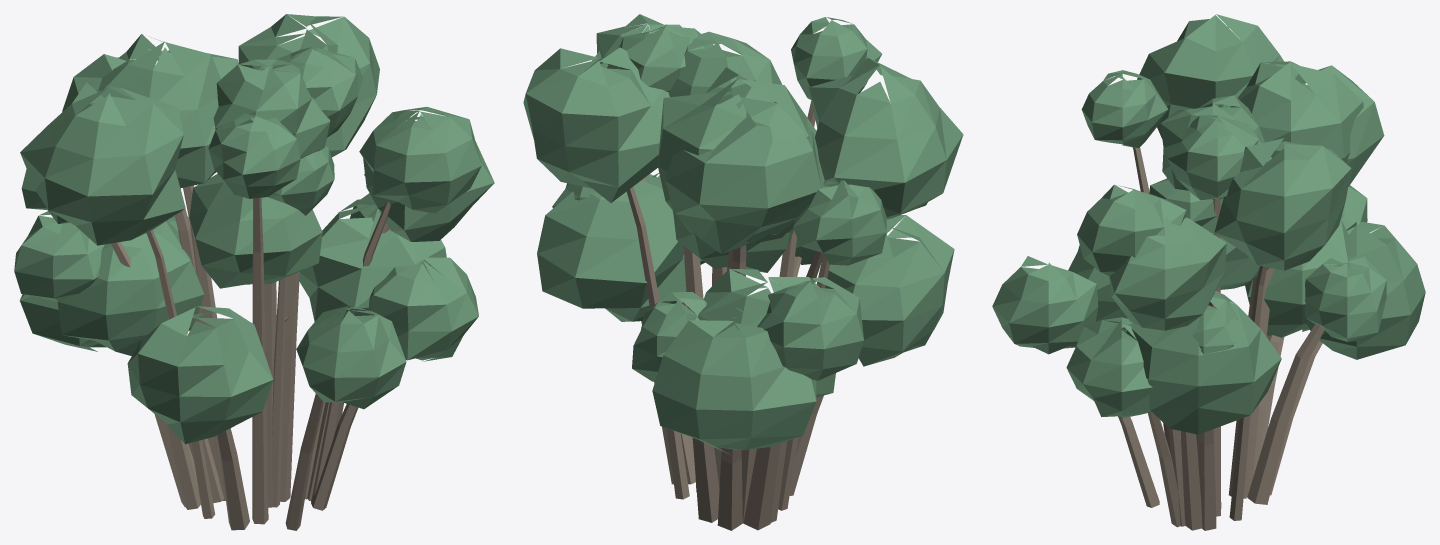
The model's file is temperate-forest-ecology-hawthorn-scrub-4ad407ec__3833.glb.
3 renders of one model, left to right at view 1: azimuth 30°, elevation 25°; view 2: azimuth 150°, elevation 25°; view 3: azimuth 270°, elevation 25°, orthographic. The views are drawn at different scales.
Visible parts, largest first — view 1: hawthorn-scrub; view 2: hawthorn-scrub; view 3: hawthorn-scrub.
Part boxes in pixels (box(x1,y1,x2,y2)): hawthorn-scrub: box(14, 14, 494, 530); hawthorn-scrub: box(523, 14, 963, 530); hawthorn-scrub: box(992, 14, 1425, 530).
Bounding box in the file's own units: 3.98 × 4.24 × 3.92.
